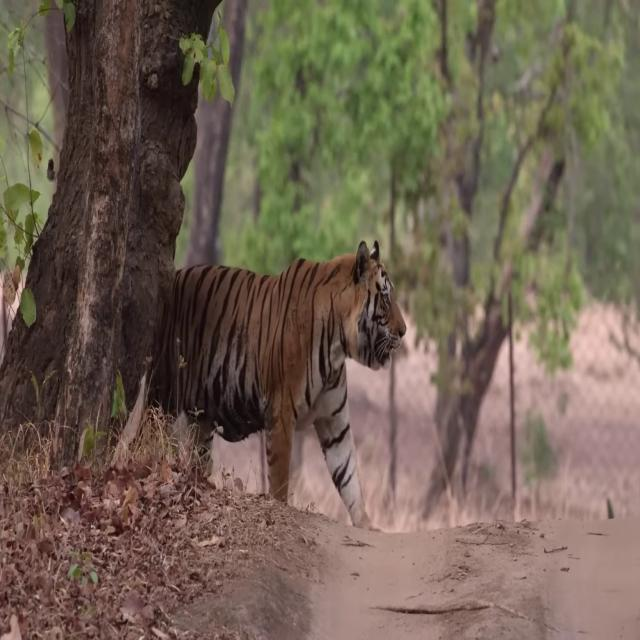tiger: (168, 235, 408, 532)
